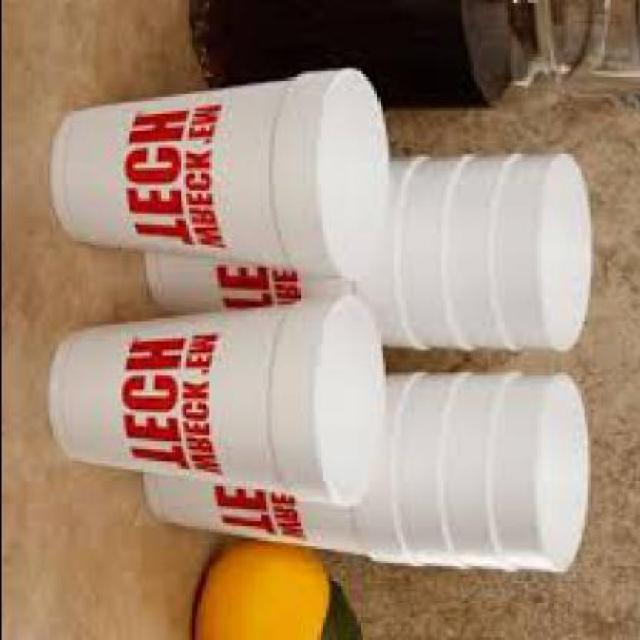BIODEGRADABLE: (188, 3, 523, 108), (186, 546, 334, 639), (315, 586, 368, 639)
GLASS: (191, 3, 638, 115)
PAPER: (145, 370, 598, 575), (142, 154, 595, 358), (54, 68, 389, 281), (52, 322, 390, 503), (145, 156, 427, 356), (145, 372, 424, 570)
